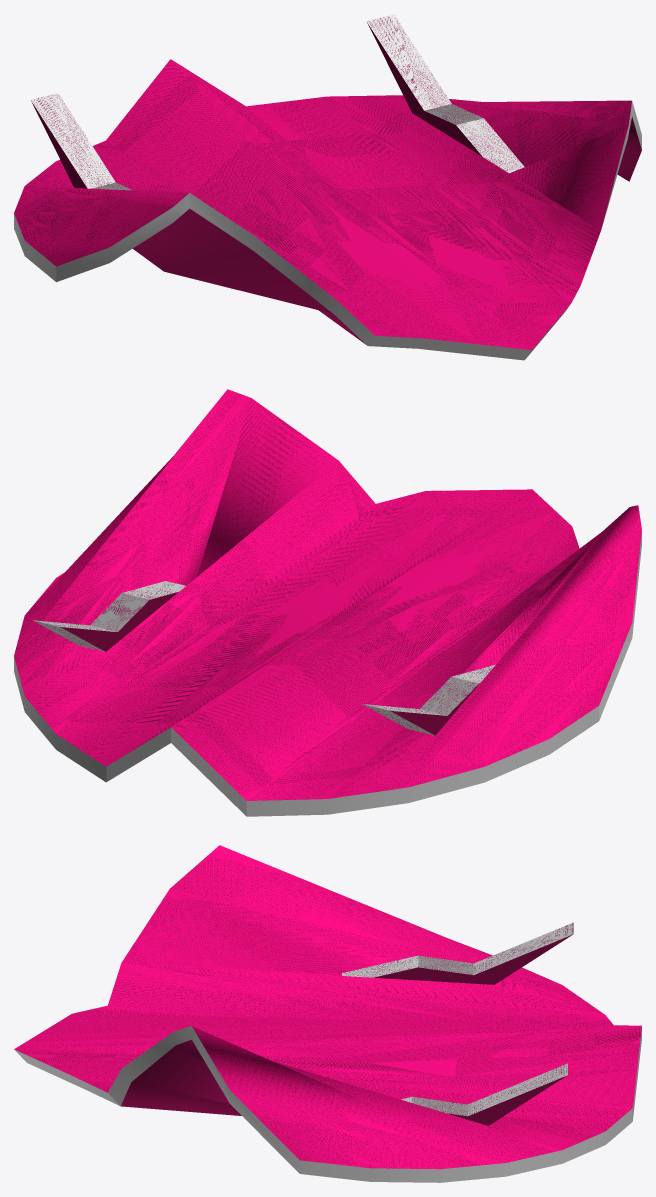
File: spaceship.dae
The picture shows the model from 3 angles, top to bottom: view 1: azimuth 30°, elevation 25°; view 2: azimuth 150°, elevation 25°; view 3: azimuth 270°, elevation 25°; orthographic projection. The views are drawn at different scales.
Parts seen in each view (by area): view 1: SketchUp (×10); view 2: SketchUp (×8); view 3: SketchUp (×11).
Boxes of the visible parts, x1=… form: SketchUp (×10): x1=14, y1=14, x2=641, y2=360; SketchUp (×8): x1=14, y1=389, x2=641, y2=816; SketchUp (×11): x1=14, y1=845, x2=641, y2=1182.
Size of the model in its own units: 99.66 by 115 by 30.71.
